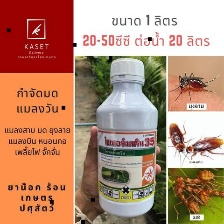insecticide: (92, 57, 160, 220)
